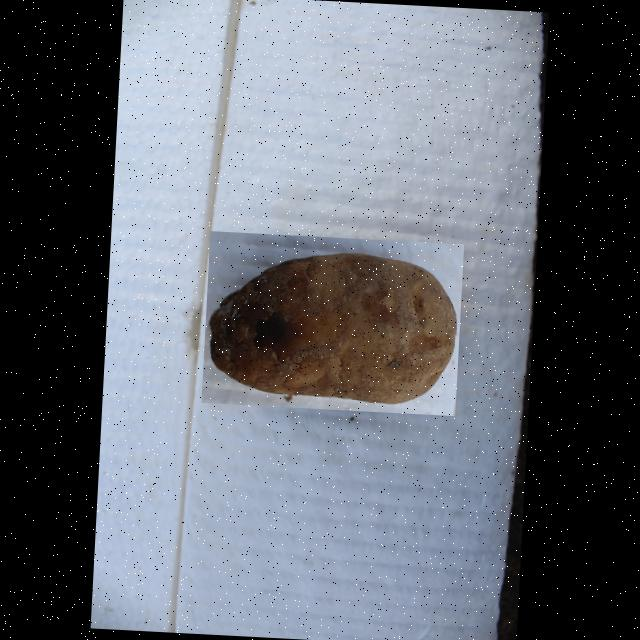Diseased-fungal potato: (202, 230, 464, 415)
